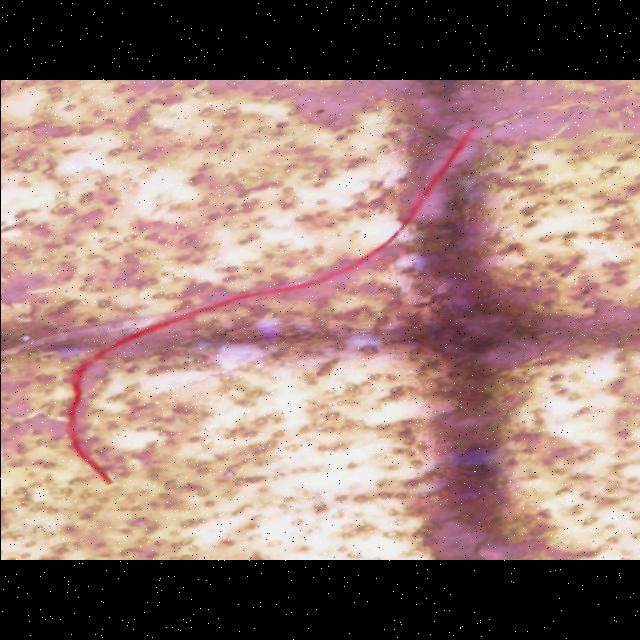Fibre: (63, 124, 479, 486)
